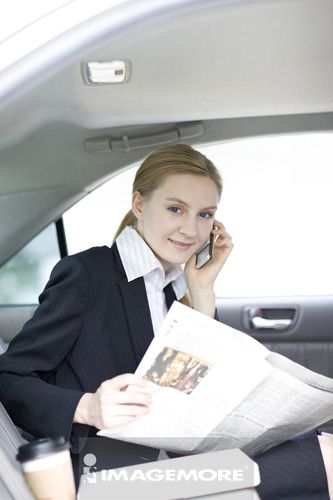talk: (154, 183, 232, 305)
